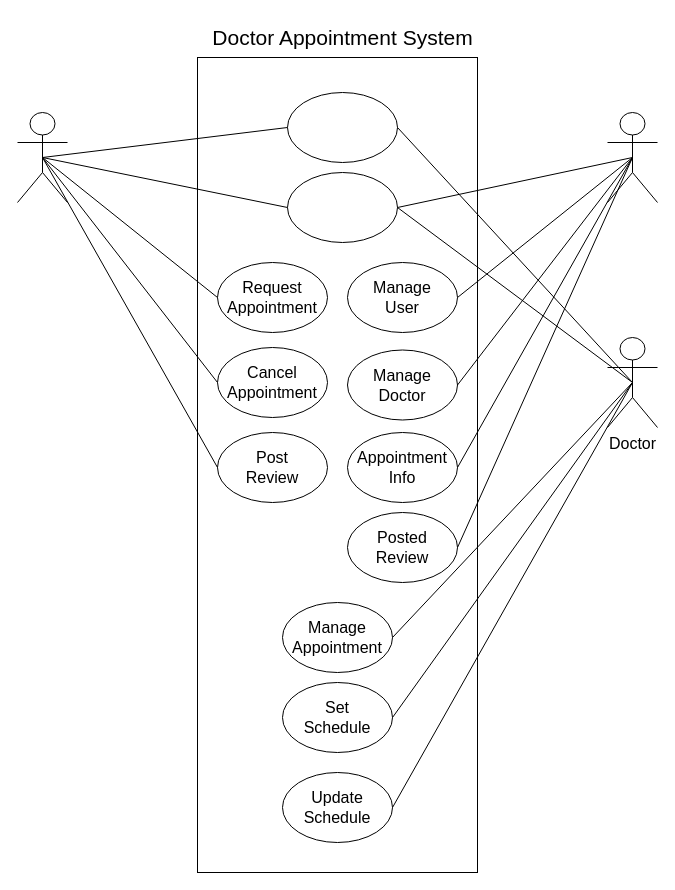
This 675x890 diagram has some shape labels left out. The box of each missing label's shape, as (x1, y1, x2, y2) in pixels:
Admin: (606, 112, 658, 202)
Login: (286, 172, 398, 242)
Register: (286, 92, 398, 162)
User: (16, 112, 68, 202)
